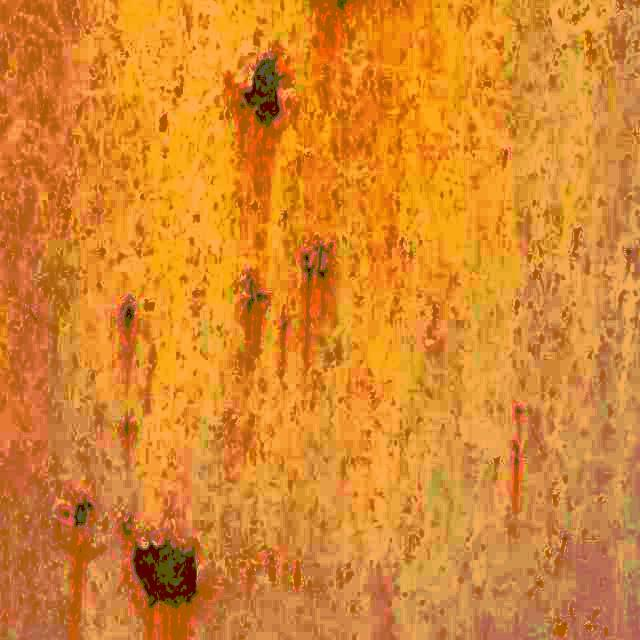Corrosion: (135, 544, 197, 606), (157, 544, 197, 604), (244, 59, 280, 122), (303, 244, 332, 316), (244, 273, 270, 338), (74, 499, 93, 528), (122, 303, 134, 332), (123, 419, 129, 438)
